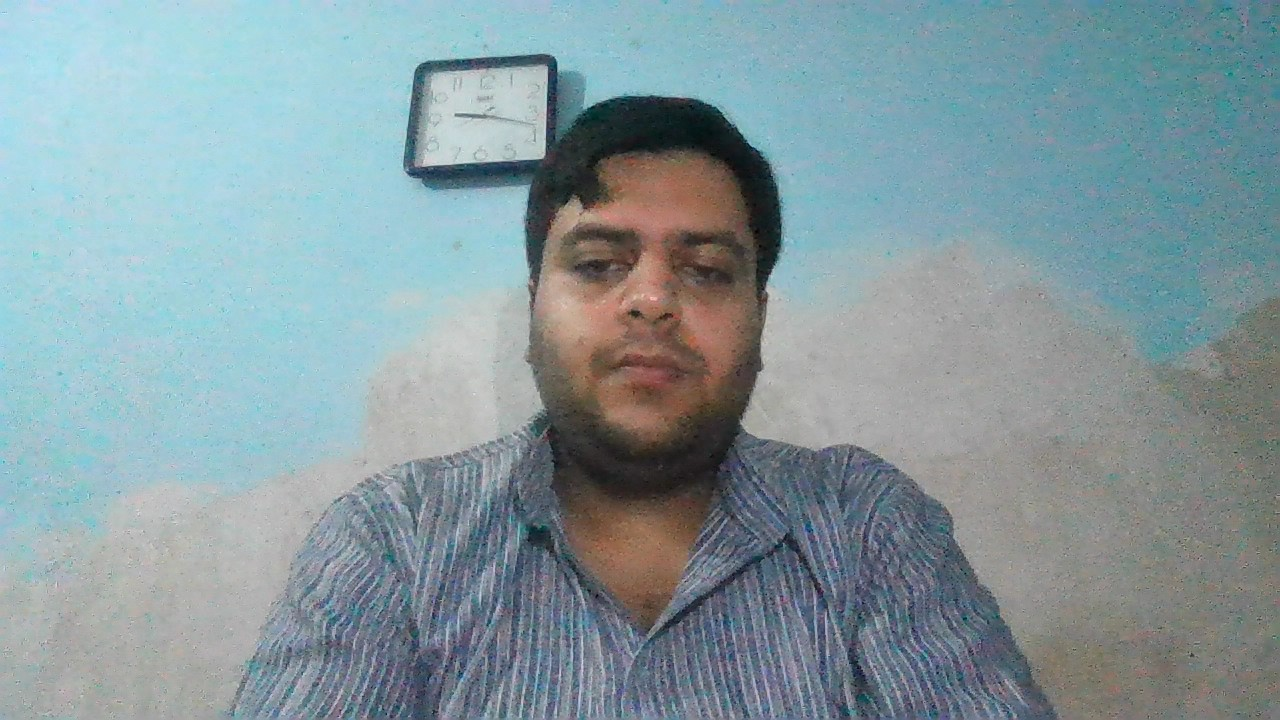No Mask: (521, 284, 771, 451)
